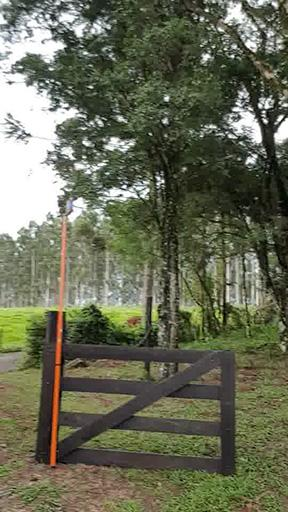Vara_Manobra: (50, 216, 68, 468)
